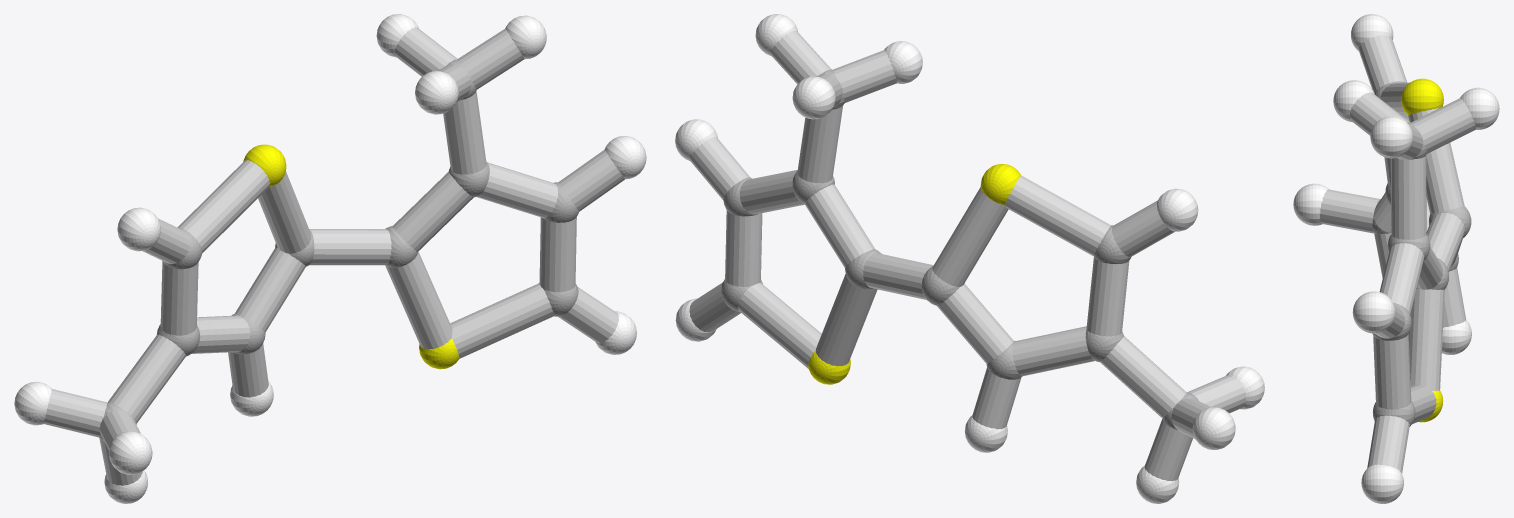
Rendered from color.glb.
3 renders of one model, left to right at view 1: azimuth 30°, elevation 25°; view 2: azimuth 150°, elevation 25°; view 3: azimuth 270°, elevation 25°, orthographic. The views are drawn at different scales.
Parts seen in each view (by area): view 1: grp7965, grp3621, grp1, grp7241; view 2: grp7965, grp3621, grp1, grp7241; view 3: grp7965, grp3621, grp1, grp7241.
Part boxes in pixels (left/top/right/bottom): grp7965: left=44, top=27, right=624, bottom=485; grp3621: left=14, top=14, right=646, bottom=503; grp1: left=99, top=59, right=579, bottom=441; grp7241: left=243, top=144, right=459, bottom=369; grp7965: left=689, top=30, right=1246, bottom=481; grp3621: left=675, top=14, right=1264, bottom=503; grp1: left=721, top=69, right=1198, bottom=430; grp7241: left=808, top=164, right=1020, bottom=384; grp7965: left=1320, top=35, right=1476, bottom=473; grp3621: left=1293, top=14, right=1499, bottom=503; grp1: left=1372, top=81, right=1471, bottom=426; grp7241: left=1401, top=78, right=1443, bottom=422.
Bounding box in the file's own units: 9.41 × 5.94 × 2.9.
